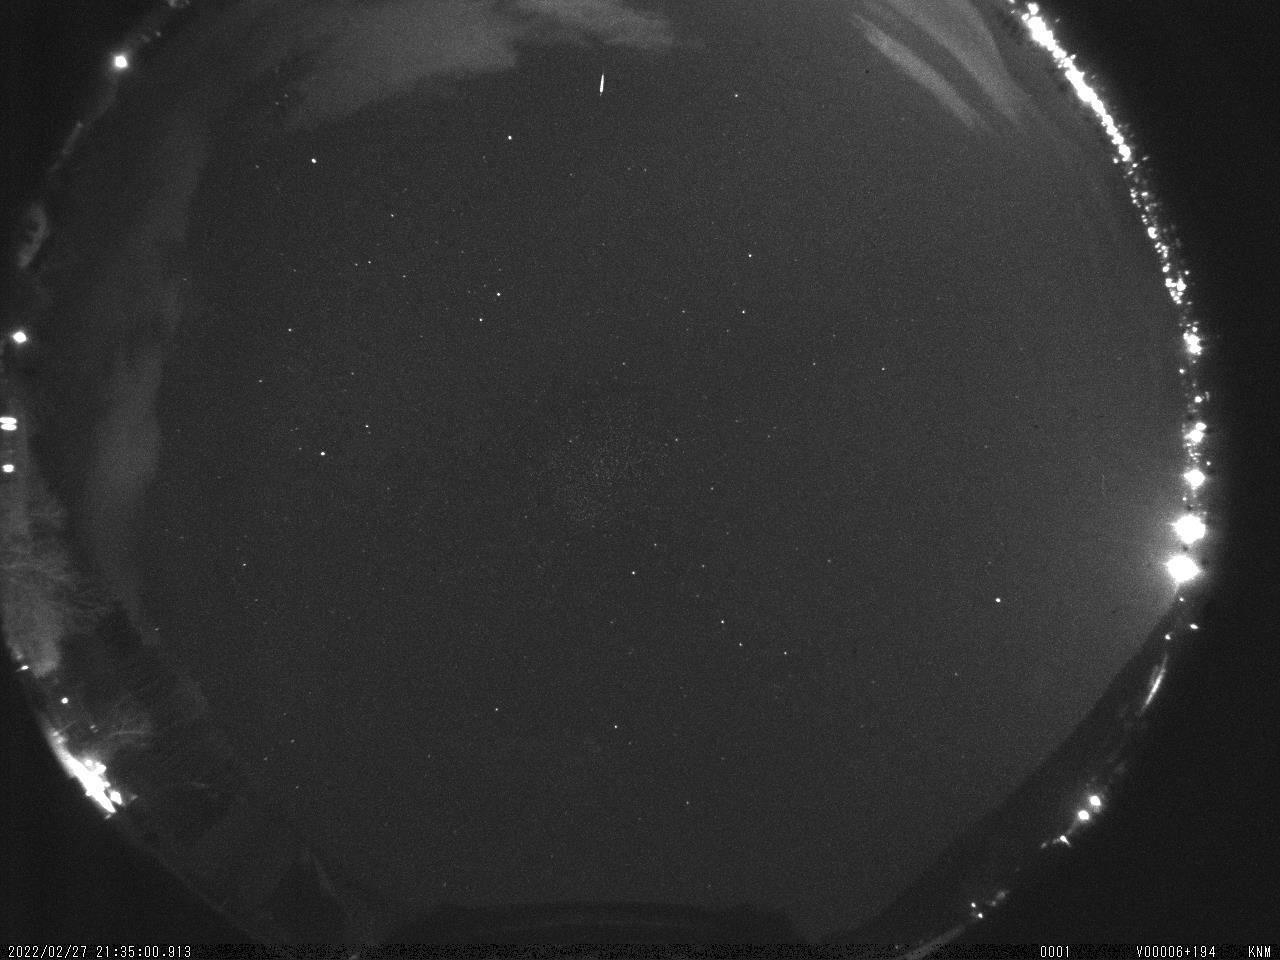Meteor: (594, 67, 607, 98)
